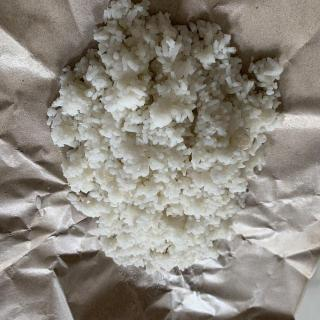Nasi: (50, 1, 282, 275)
